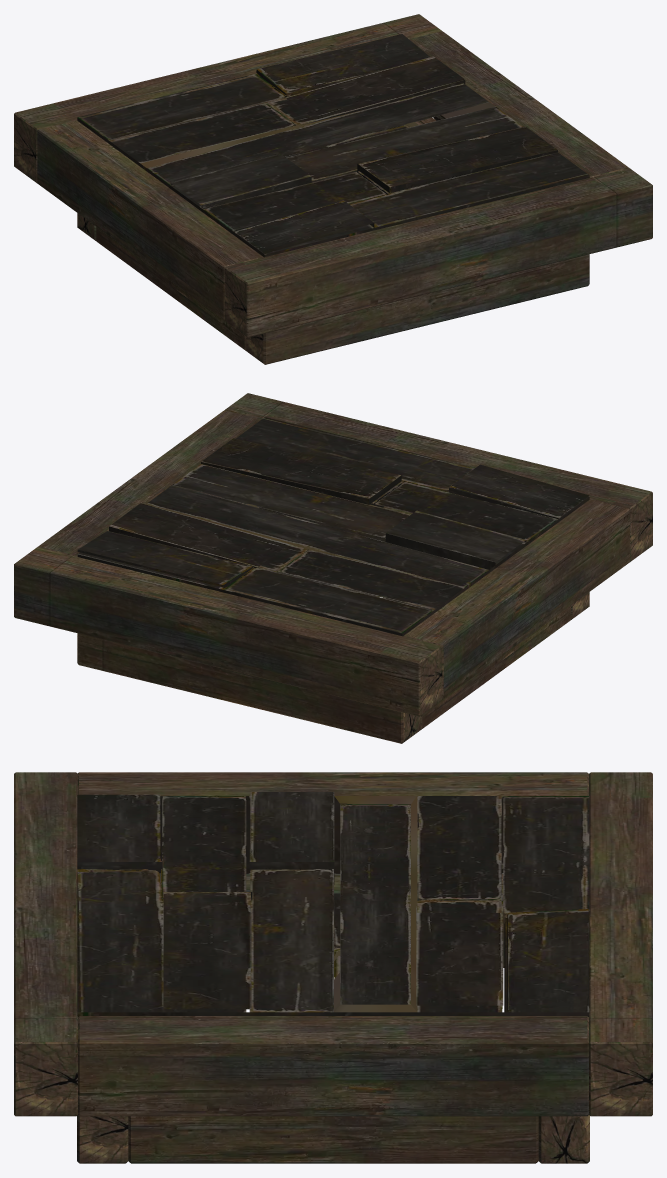
The picture shows the model from 3 angles, top to bottom: view 1: azimuth 30°, elevation 25°; view 2: azimuth 150°, elevation 25°; view 3: azimuth 270°, elevation 25°; orthographic projection. The views are drawn at different scales.
Parts seen in each view (by area): view 1: SM_BB_T1_Floor_Med_LOD0; view 2: SM_BB_T1_Floor_Med_LOD0; view 3: SM_BB_T1_Floor_Med_LOD0.
Part boxes in pixels (bbox=[...]): SM_BB_T1_Floor_Med_LOD0: bbox=[14, 14, 652, 364]; SM_BB_T1_Floor_Med_LOD0: bbox=[14, 393, 652, 743]; SM_BB_T1_Floor_Med_LOD0: bbox=[14, 772, 652, 1163].
Size of the model in its own units: 1.88 by 0.5167 by 1.87.
2 materials, 2 textured.
